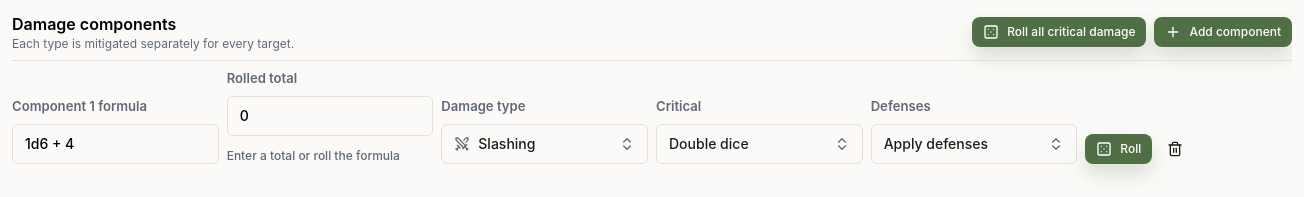
Test: DamageComponentEditor › rolls base and critical dice while leaving the modifier single
The width and height of the screenshot is (1304, 197).
What coordinates should you click on to do the following:
click the button with aria-label "Roll damage component 1"
I would click on:
 (1119, 149)
Its box is [1085, 134, 1152, 164].
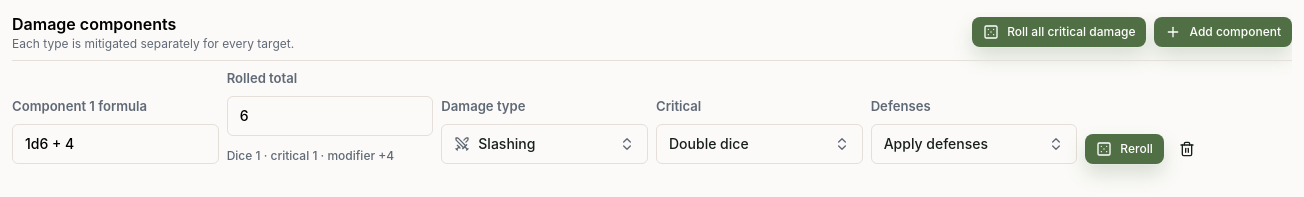
Check: the number field labelled "Rolled total" holds "6", box [227, 96, 433, 136]
Check: the text "Dice 1 · critical 1 · modifier +4" is shown, box [227, 148, 394, 163]
